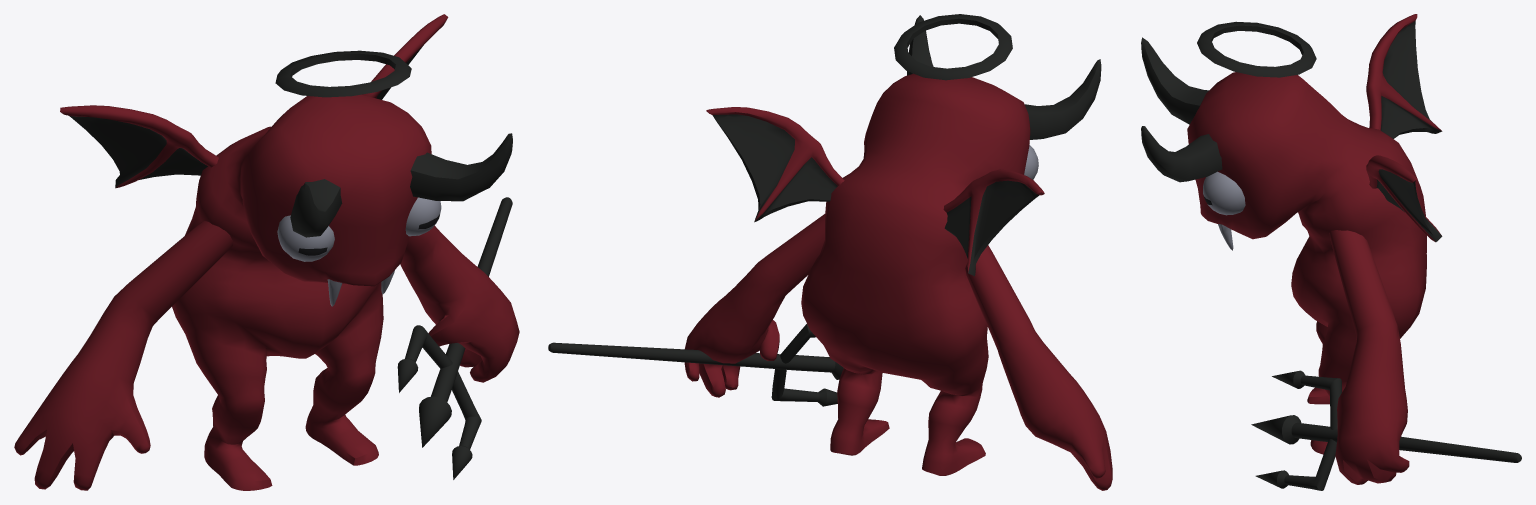
Rendered from q_demon_2.glb.
3 views of the same model, side by side, from view 1: azimuth 30°, elevation 25°; view 2: azimuth 150°, elevation 25°; view 3: azimuth 270°, elevation 25° (orthographic). The views are drawn at different scales.
Parts seen in each view (by area): view 1: Demon_b; view 2: Demon_b; view 3: Demon_b.
Boxes of the visible parts, x1=… form: Demon_b: x1=14, y1=14, x2=519, y2=490; Demon_b: x1=548, y1=14, x2=1112, y2=490; Demon_b: x1=1141, y1=14, x2=1521, y2=490.
Size of the model in its own units: 1.33 by 1 by 0.8826.
